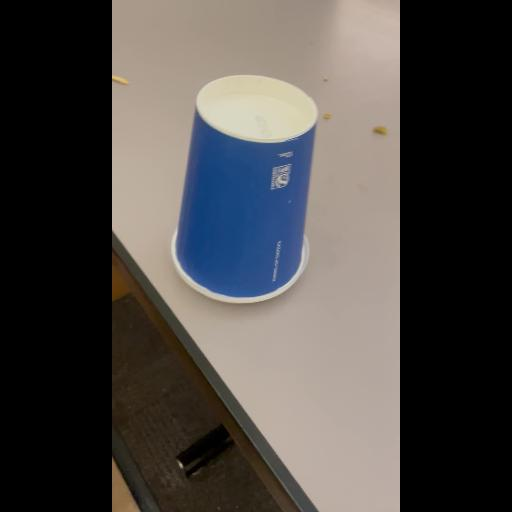lp_paper_cup: (172, 78, 318, 300)
